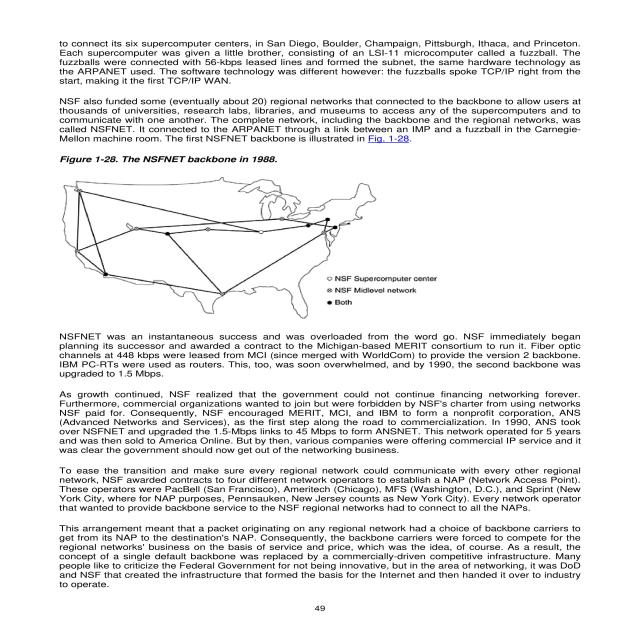diagram: (52, 151, 452, 322)
